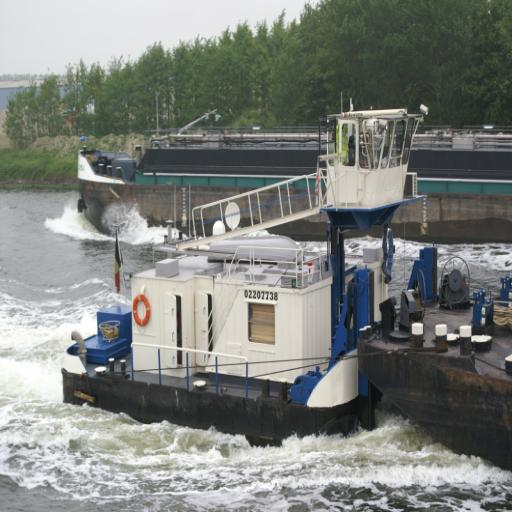tugboat: (59, 96, 443, 451)
